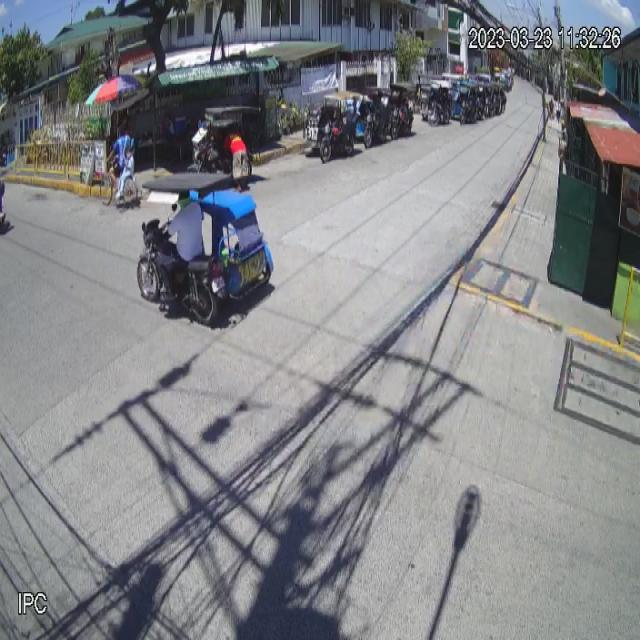Tricycle: (136, 171, 274, 328)
